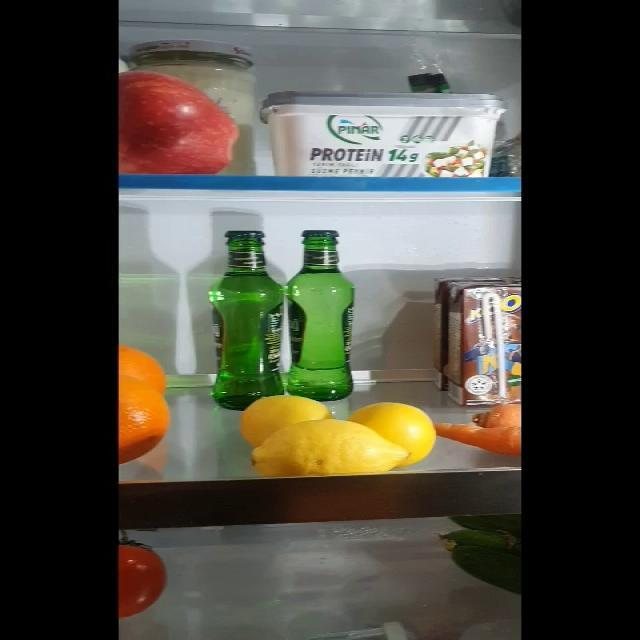apple: (119, 70, 245, 175)
cheese: (264, 90, 509, 178)
lemon: (250, 416, 411, 479), (359, 402, 432, 466)
mineral water: (212, 228, 289, 408), (296, 230, 357, 398)
tomato: (119, 526, 175, 614)
